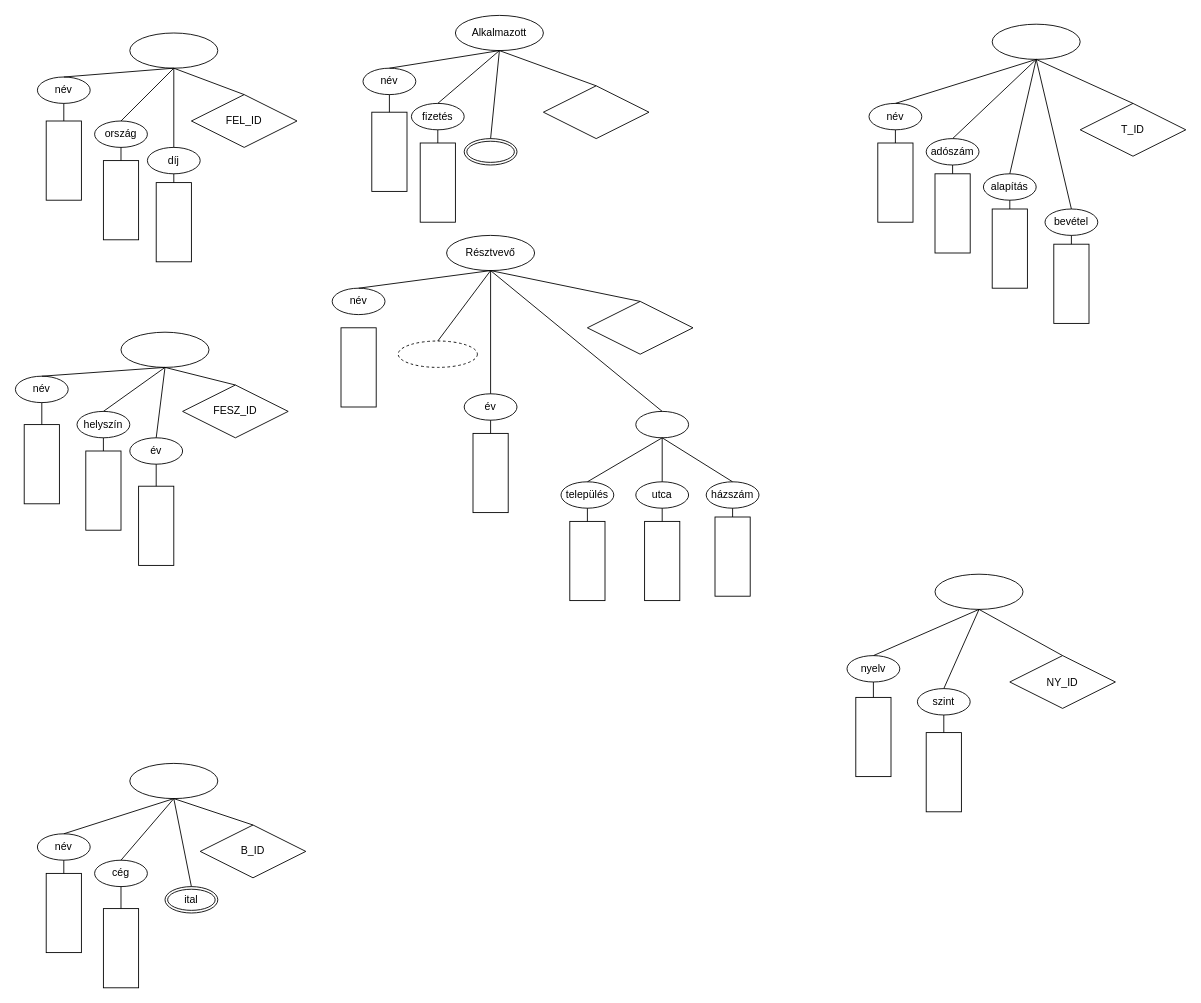
Some shapes in this 1201 by 1003 pixel diagram are drawn without their labels. Each missing label, with the centre of its shape:
"A_ID" belongs at [596,112].
"Bár" belongs at [173,781].
"Diákigazolvány" belongs at [437,353].
"Fellépő" belongs at [173,50].
"Fesztivál" belongs at [164,349].
"lakcím" belongs at [662,424].
"műszak" belongs at [490,151].
"Nyelvtudás" belongs at [978,591].
"R_ID" belongs at [640,327].
"Tulajdonos" belongs at [1035,41].
